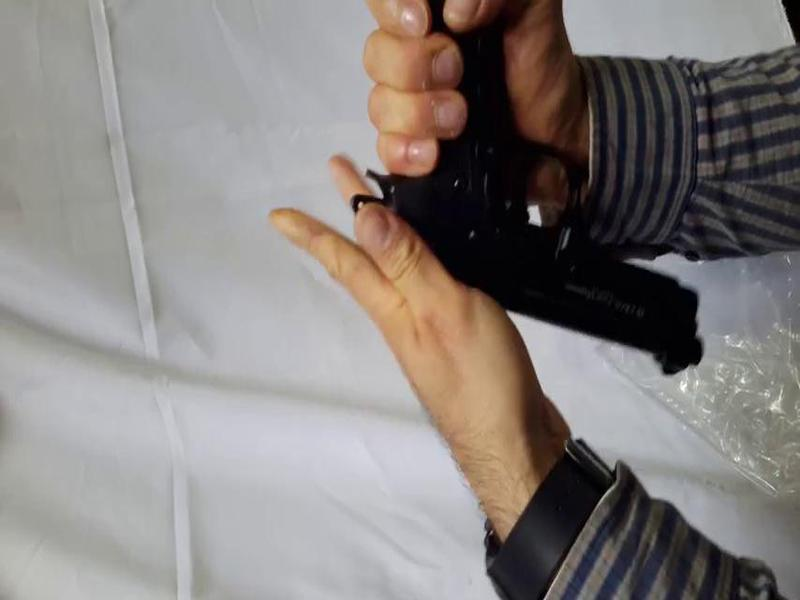Pistola: (351, 1, 731, 387)
